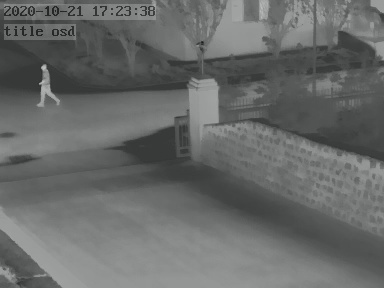person: (35, 63, 61, 108)
